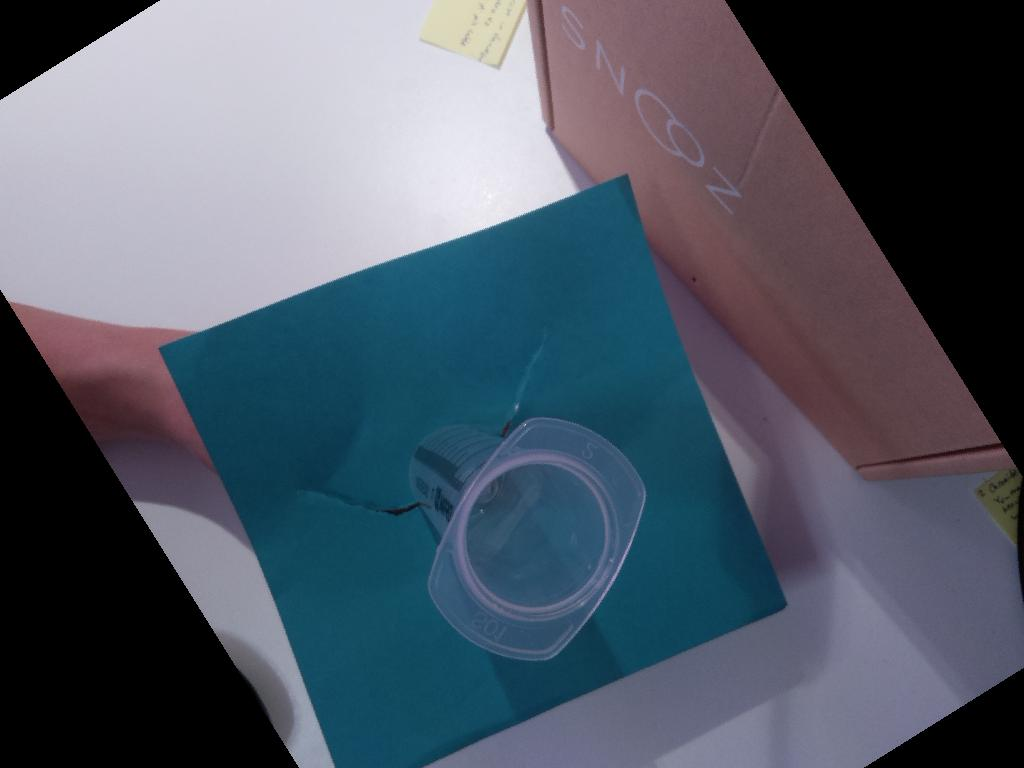clean: (428, 416, 647, 663)
